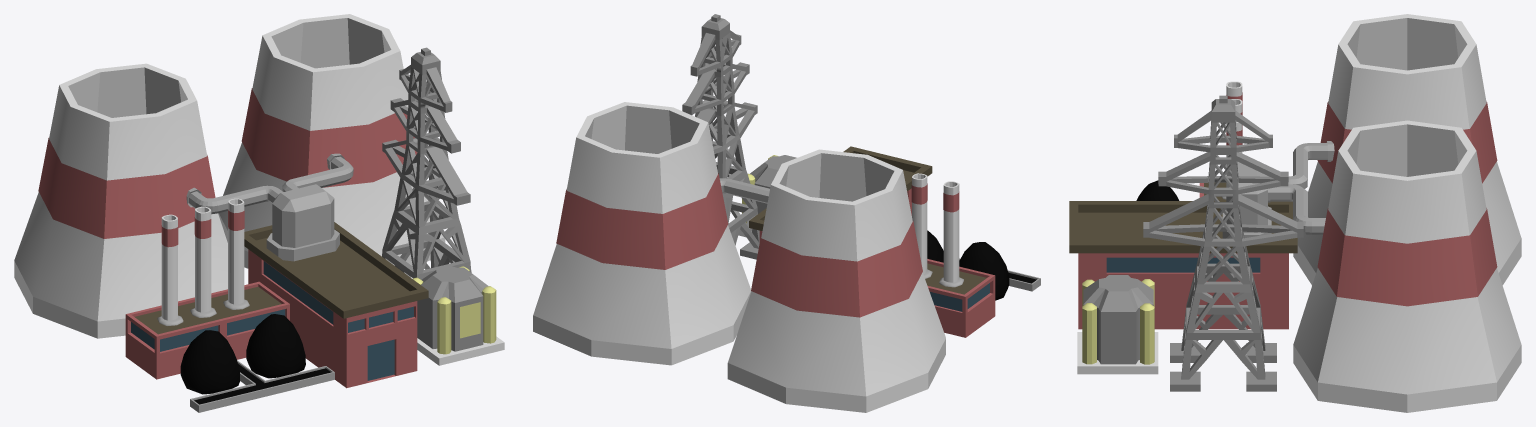
File: PowerPlant_L1.fbx
3 renders of one model, left to right at view 1: azimuth 30°, elevation 25°; view 2: azimuth 150°, elevation 25°; view 3: azimuth 270°, elevation 25°, orthographic. The views are drawn at different scales.
Parts seen in each view (by area): view 1: polySurface9, polySurface7, pCube1, Tower, polySurface8, polySurface6, pCube2, pCube16, pCube28, pCube4, pCube8, pCube18 (+10 smaller); view 2: polySurface9, polySurface7, polySurface8, polySurface6, Tower, pCube2, pCube8, polySurface2, pCube1, pCube10, pCube28, pCube17 (+2 smaller); view 3: polySurface7, Tower, polySurface9, pCube1, polySurface6, pCube28, pCube17, polySurface8, pCube7, pCube16, pCube29, pCube31 (+2 smaller).
Boxes of the visible parts, x1=… form: polySurface9: x1=14, y1=63, x2=227, y2=338; polySurface7: x1=218, y1=14, x2=445, y2=268; pCube1: x1=244, y1=222, x2=428, y2=388; Tower: x1=382, y1=47, x2=471, y2=280; polySurface8: x1=38, y1=138, x2=215, y2=238; polySurface6: x1=241, y1=88, x2=417, y2=187; pCube2: x1=125, y1=281, x2=289, y2=379; pCube16: x1=266, y1=184, x2=339, y2=261; pCube28: x1=417, y1=266, x2=488, y2=351; pCube4: x1=246, y1=314, x2=305, y2=378; pCube8: x1=180, y1=330, x2=239, y2=394; pCube18: x1=190, y1=360, x2=334, y2=412; polySurface9: x1=727, y1=149, x2=945, y2=412; polySurface7: x1=533, y1=102, x2=751, y2=365; polySurface8: x1=751, y1=220, x2=922, y2=317; polySurface6: x1=556, y1=173, x2=728, y2=269; Tower: x1=682, y1=14, x2=759, y2=259; pCube2: x1=925, y1=259, x2=995, y2=337; pCube8: x1=959, y1=242, x2=1009, y2=300; polySurface2: x1=943, y1=181, x2=959, y2=282; pCube1: x1=749, y1=146, x2=932, y2=241; pCube10: x1=912, y1=173, x2=927, y2=274; pCube28: x1=750, y1=155, x2=796, y2=213; pCube17: x1=719, y1=178, x2=769, y2=203; polySurface7: x1=1293, y1=120, x2=1521, y2=412; Tower: x1=1143, y1=95, x2=1303, y2=391; polySurface9: x1=1293, y1=14, x2=1521, y2=285; pCube1: x1=1069, y1=201, x2=1297, y2=329; polySurface6: x1=1317, y1=208, x2=1497, y2=306; pCube28: x1=1083, y1=275, x2=1153, y2=364; pCube17: x1=1268, y1=141, x2=1334, y2=234; polySurface8: x1=1317, y1=101, x2=1497, y2=183; pCube7: x1=1106, y1=257, x2=1260, y2=272; pCube16: x1=1222, y1=161, x2=1271, y2=238; pCube29: x1=1077, y1=332, x2=1158, y2=374; pCube31: x1=1082, y1=303, x2=1096, y2=364.
Bounding box in the file's own units: 55.62 × 34.33 × 51.51.
